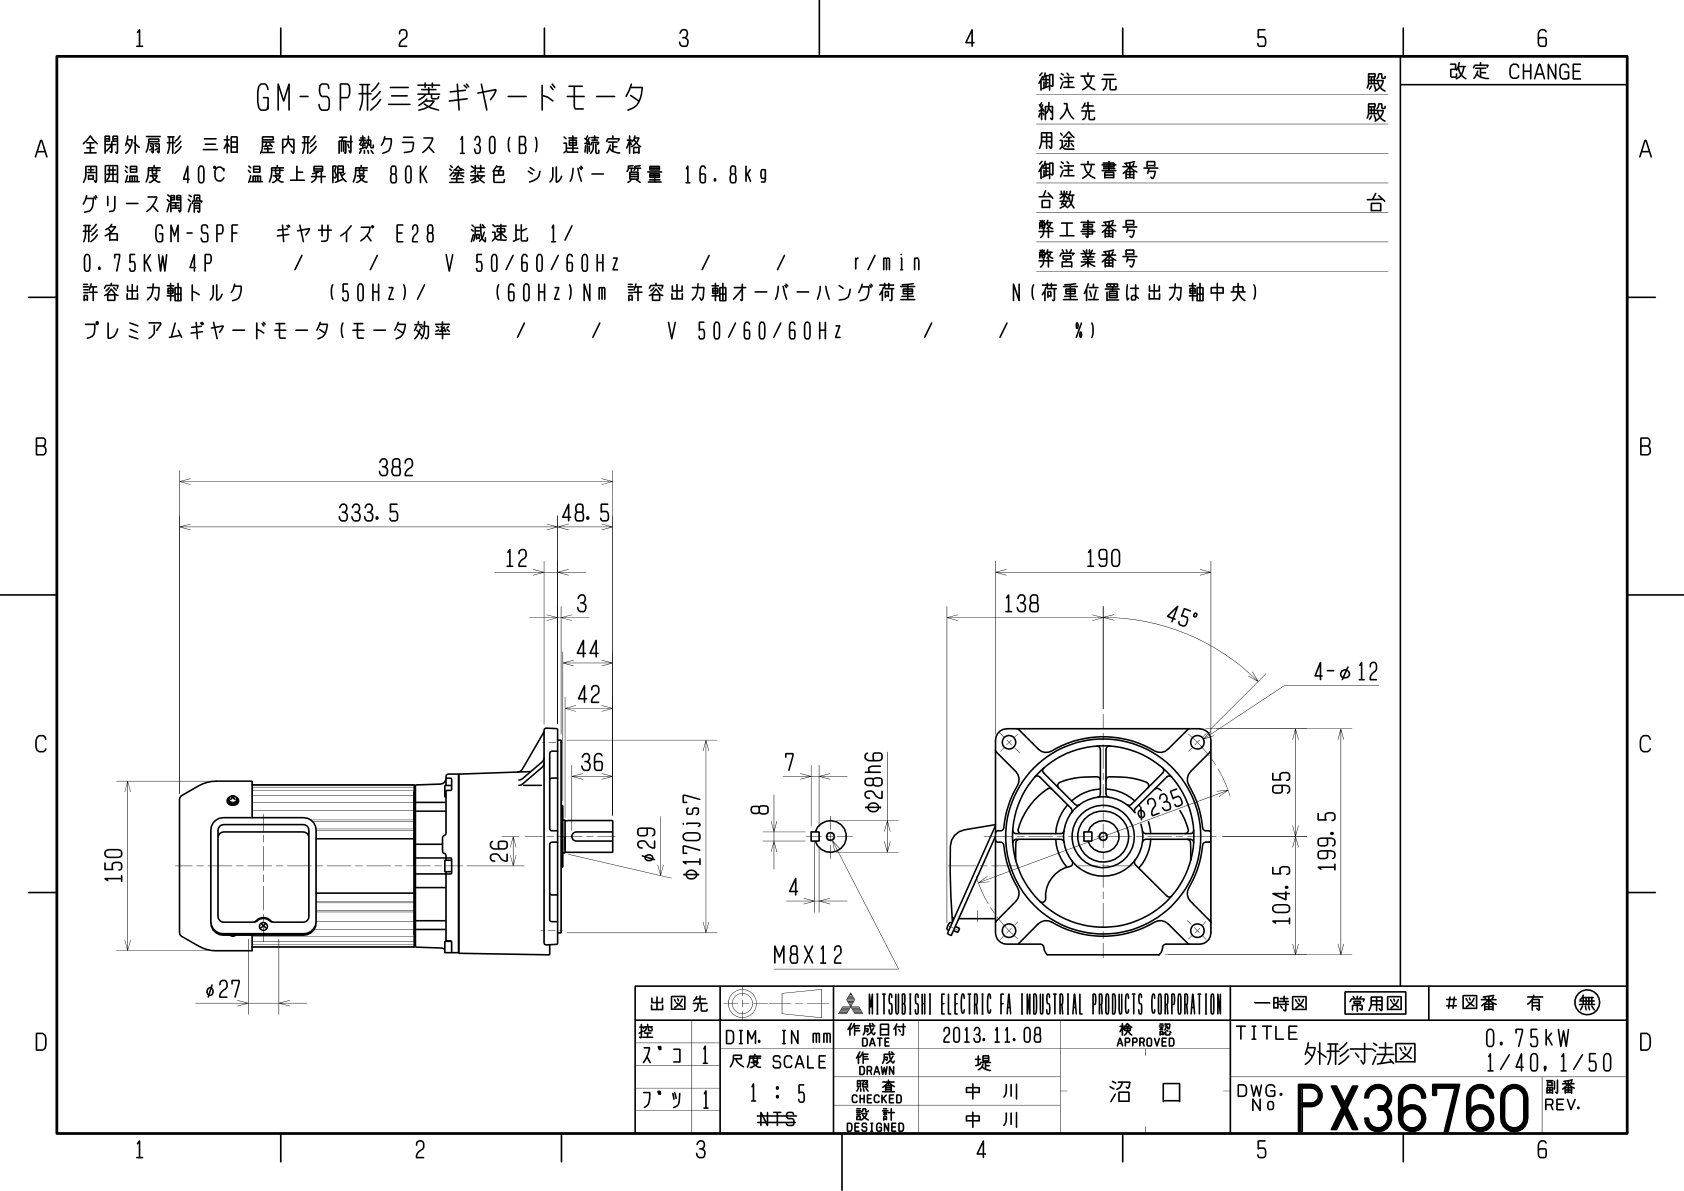GM_SP_屋内_三相_フランジ: (82, 409, 1392, 978)
